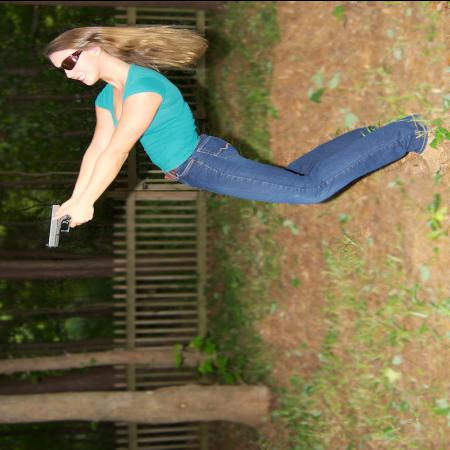Pistol: (44, 202, 86, 248)
